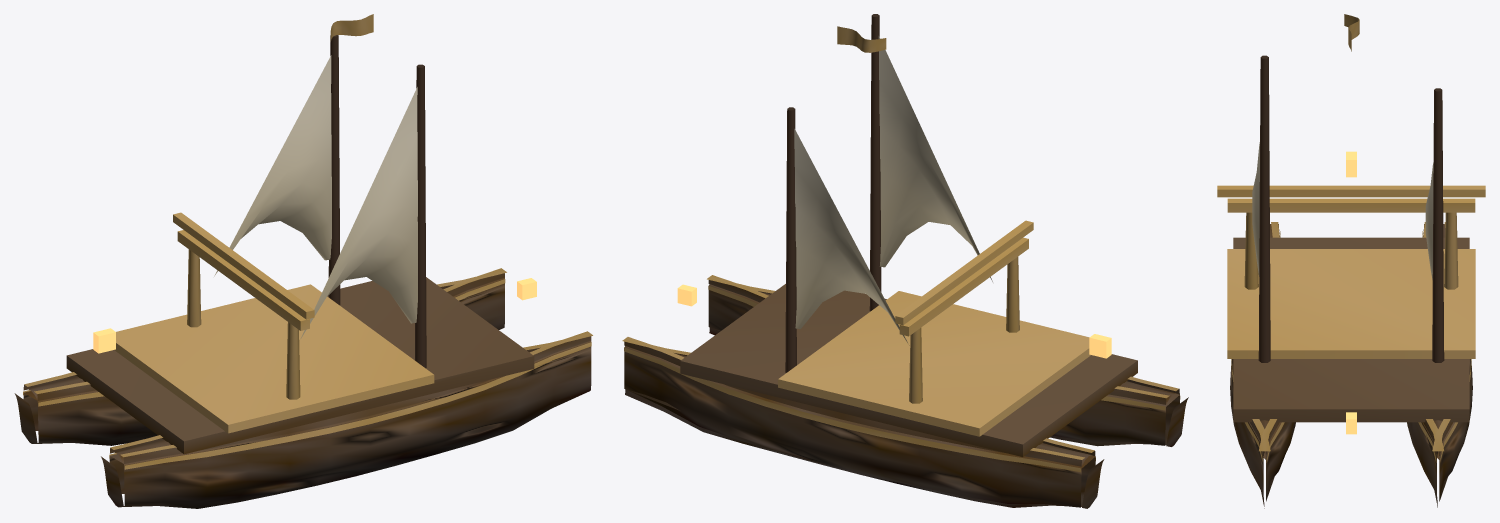
The model's file is garden-hero-maker.glb.
The picture shows the model from 3 angles, left to right: view 1: azimuth 30°, elevation 25°; view 2: azimuth 150°, elevation 25°; view 3: azimuth 270°, elevation 25°; orthographic projection. The views are drawn at different scales.
Visible parts, largest first — view 1: wood-hull, trim-hull, sail-hull, spar-hull, glow-hull; view 2: wood-hull, trim-hull, sail-hull, spar-hull, glow-hull; view 3: trim-hull, wood-hull, spar-hull, sail-hull, glow-hull.
Boxes of the visible parts, x1,y1,x2,y2 form: wood-hull: [14, 14, 592, 508]; trim-hull: [23, 212, 591, 469]; sail-hull: [214, 55, 417, 338]; spar-hull: [328, 35, 426, 368]; glow-hull: [93, 278, 536, 353]; wood-hull: [622, 26, 1188, 508]; trim-hull: [624, 220, 1180, 472]; sail-hull: [794, 36, 992, 345]; spar-hull: [785, 14, 881, 372]; glow-hull: [677, 284, 1111, 358]; trim-hull: [1217, 185, 1485, 462]; wood-hull: [1230, 14, 1472, 508]; spar-hull: [1258, 55, 1444, 362]; sail-hull: [1252, 142, 1433, 279]; glow-hull: [1346, 151, 1356, 434].
Size of the model in its own units: 9.38 by 7.67 by 4.48.
